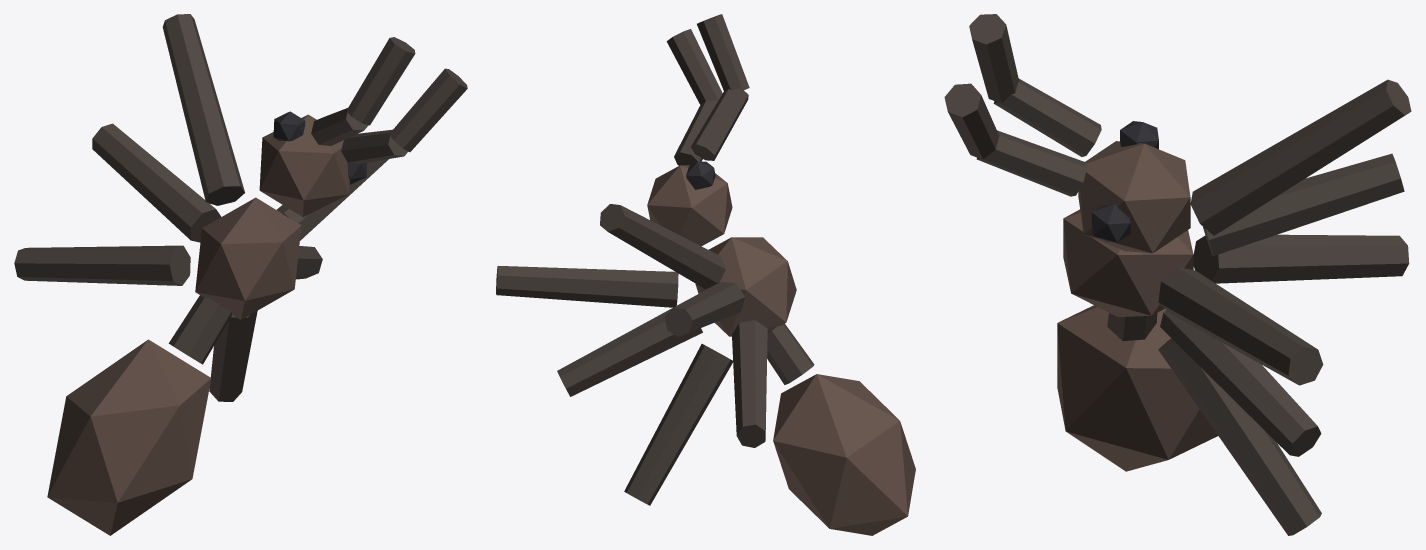
3 renders of one model, left to right at view 1: azimuth 30°, elevation 25°; view 2: azimuth 150°, elevation 25°; view 3: azimuth 270°, elevation 25°, orthographic. The views are drawn at different scales.
Visible parts, largest first — view 1: part3, part1, part11, part15, part0, part13, part14, part9, part7, part2, part6, part8 (+3 smaller); view 2: part3, part10, part14, part1, part0, part11, part12, part15, part13, part9, part8, part7 (+3 smaller); view 3: part3, part11, part0, part15, part14, part10, part1, part13, part12, part8, part6, part9 (+4 smaller).
Part boxes in pixels (x1,y1,x2,y2): part3: (47, 339, 211, 535); part1: (195, 197, 301, 319); part11: (162, 14, 244, 205); part15: (14, 245, 190, 285); part0: (259, 114, 349, 216); part13: (92, 123, 221, 242); part14: (209, 311, 257, 401); part9: (346, 37, 415, 125); part7: (389, 68, 467, 152); part2: (168, 295, 231, 364); part6: (341, 129, 408, 163); part8: (311, 108, 368, 145); part3: (773, 374, 915, 535); part10: (496, 265, 678, 307); part14: (624, 344, 732, 505); part1: (695, 237, 796, 336); part0: (647, 165, 732, 246); part11: (600, 204, 725, 288); part12: (557, 302, 702, 396); part15: (732, 320, 767, 447); part13: (665, 281, 745, 336); part9: (697, 14, 749, 91); part8: (691, 88, 748, 160); part7: (666, 29, 722, 104); part3: (1057, 305, 1217, 471); part11: (1190, 79, 1411, 235); part0: (1078, 141, 1190, 253); part15: (1193, 234, 1409, 283); part14: (1158, 338, 1321, 535); part10: (1158, 267, 1323, 385); part1: (1063, 209, 1193, 316); part13: (1203, 153, 1404, 255); part12: (1160, 309, 1321, 456); part8: (993, 78, 1101, 156); part6: (976, 130, 1086, 196); part9: (969, 14, 1019, 102).
Size of the model in its own units: 8.58 by 9.81 by 6.99.
